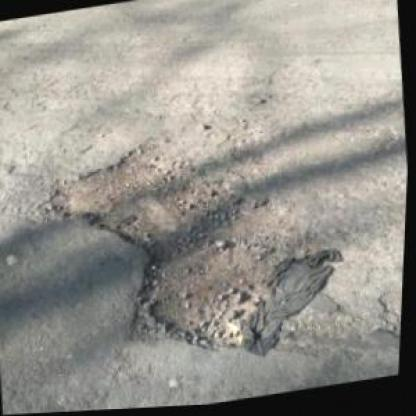pothole: (34, 117, 322, 382)
